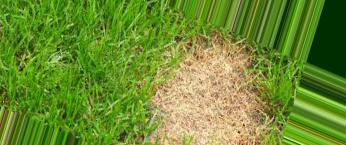patch: (179, 68, 240, 141)
